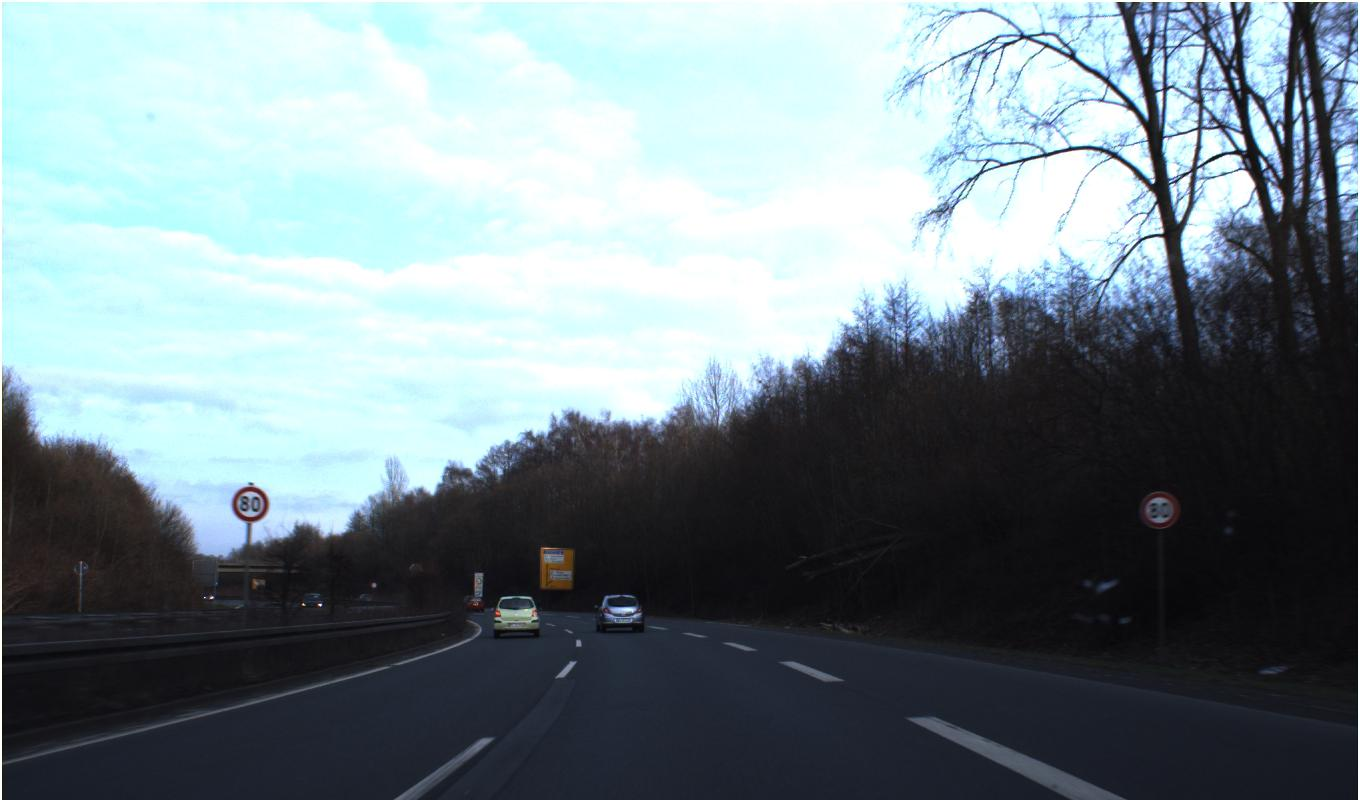prohibitory: (1139, 490, 1179, 530), (230, 486, 270, 522)
